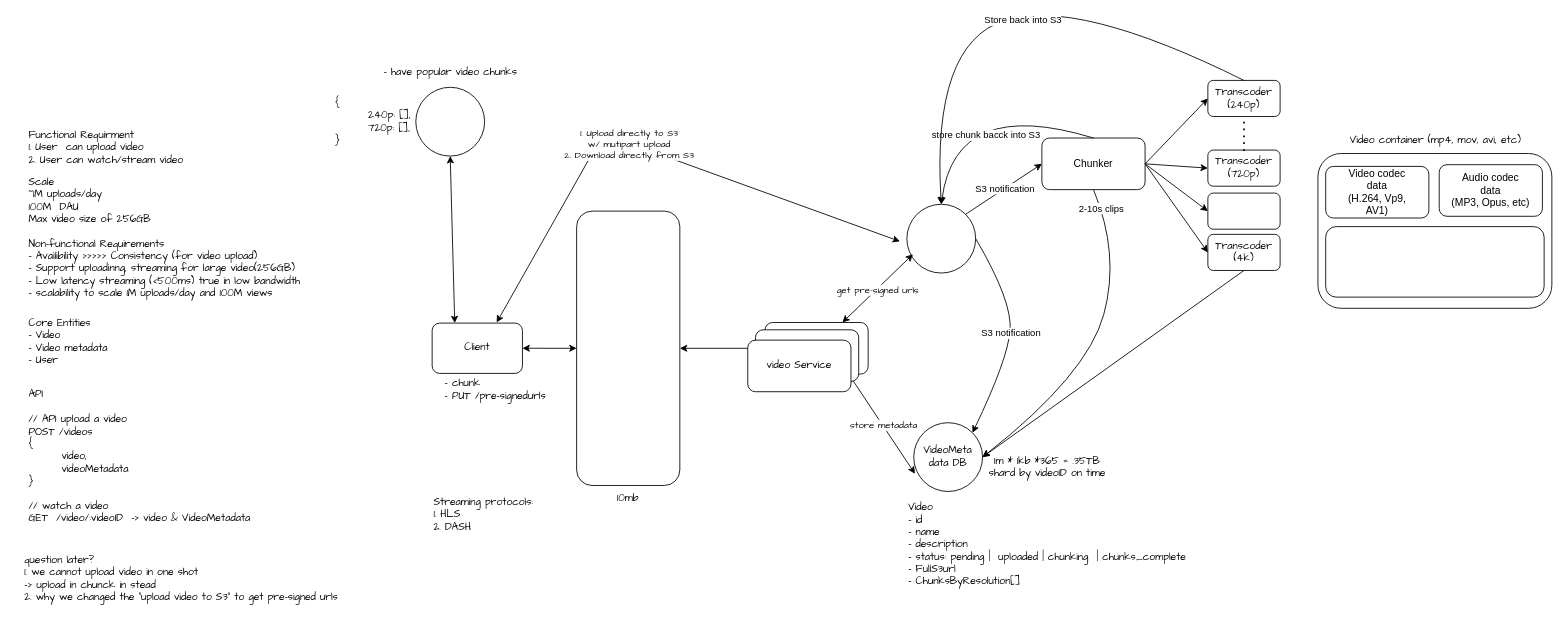
This 1567x624 diagram has some shape labels left out. The centre of each missing label's shape, as x and y in pixels:
"Api gateway - routing - middleware" goes at point (628, 347).
"CDN" goes at point (450, 121).
"Parameters - bitrate, resolution, frame rate - apest ratio - duratin" goes at point (1434, 261).
"S3" goes at point (941, 238).
"Transcoder (1080p)" goes at point (1243, 210).
